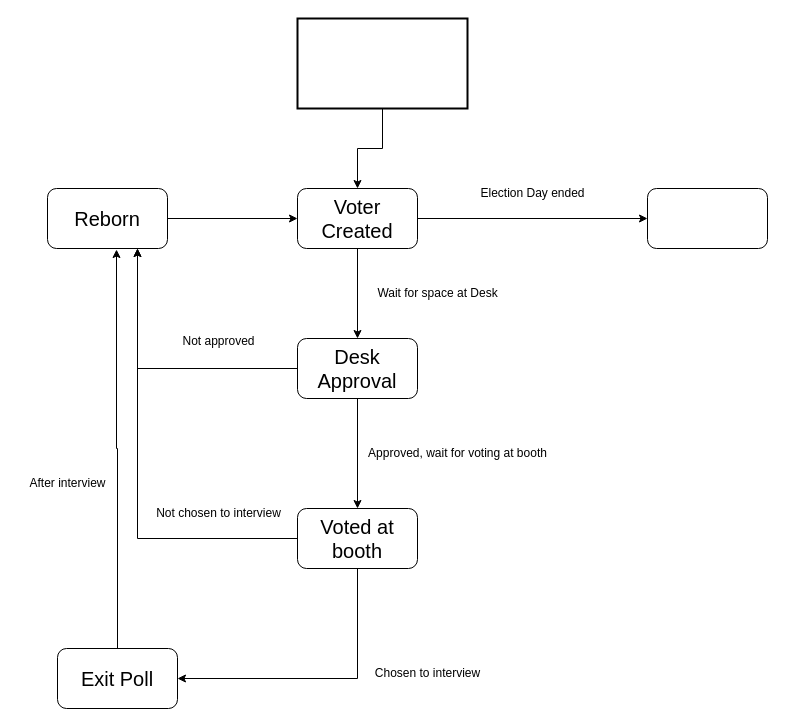
The diagram is 785 pixels wide and 726 high, and some of its shapes have lost their labels. Each missing label, with the centre of its shape:
"Join" belongs at pixel 707 218.
"Voter" belongs at pixel 382 63.
